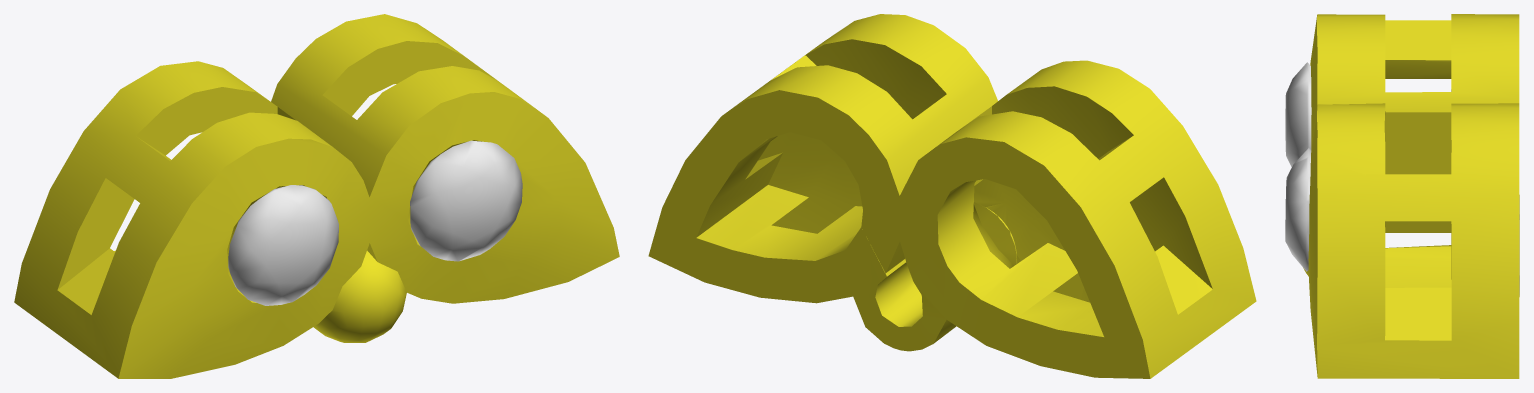
3 renders of one model, left to right at view 1: azimuth 30°, elevation 25°; view 2: azimuth 150°, elevation 25°; view 3: azimuth 270°, elevation 25°, orthographic. The views are drawn at different scales.
Visible parts, largest first — view 1: Jhumka2 Gm 6 To 7.002, Stones.002; view 2: Jhumka2 Gm 6 To 7.002; view 3: Jhumka2 Gm 6 To 7.002, Stones.002.
Boxes of the visible parts, x1,y1,x2,y2 form: Jhumka2 Gm 6 To 7.002: [14, 14, 619, 378]; Stones.002: [228, 140, 522, 305]; Jhumka2 Gm 6 To 7.002: [648, 14, 1256, 378]; Jhumka2 Gm 6 To 7.002: [1303, 14, 1519, 378]; Stones.002: [1285, 62, 1311, 271].
Bounding box in the file's own units: 9.02 × 4.01 × 3.8.
